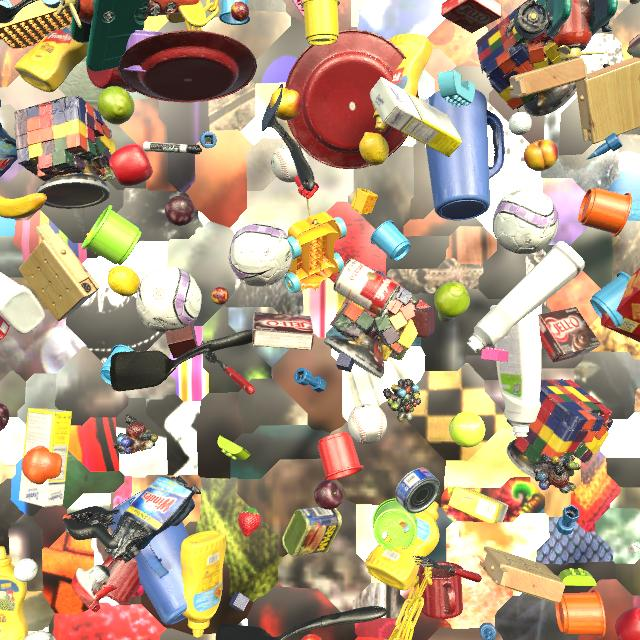ycb_003_cracker_box: (601, 268, 640, 342), (0, 315, 10, 340)
ycb_004_sugar_box: (370, 77, 462, 157), (19, 408, 72, 507), (448, 486, 508, 523)
ycb_005_tomato_soup_can: (333, 259, 400, 318)
ycb_006_mustard_bottle: (365, 501, 439, 591), (372, 34, 433, 132), (15, 24, 89, 92), (180, 530, 226, 638), (0, 546, 28, 640)
ycb_007_tuna_fish_can: (395, 468, 440, 513)
ycb_008_pudding_box: (538, 307, 601, 362), (252, 312, 314, 350), (627, 34, 640, 58)
ycb_009_gelatin_box: (441, 0, 502, 33)
ycb_010_potted_meat_can: (282, 506, 342, 556)
ycb_011_banana: (0, 193, 47, 219)
ycb_012_strawberry: (238, 508, 261, 536)
ycb_013_apple: (109, 144, 153, 186), (615, 607, 640, 640)
ycb_014_lemon: (359, 132, 389, 166), (107, 266, 140, 296)
ycb_015_peach: (524, 139, 558, 171), (270, 87, 302, 121)
ycb_016_pear: (434, 282, 470, 323), (97, 86, 134, 124)
ycb_017_orange: (21, 446, 62, 484)
ycb_018_plum: (165, 195, 195, 226), (314, 480, 344, 510), (0, 403, 9, 431)
